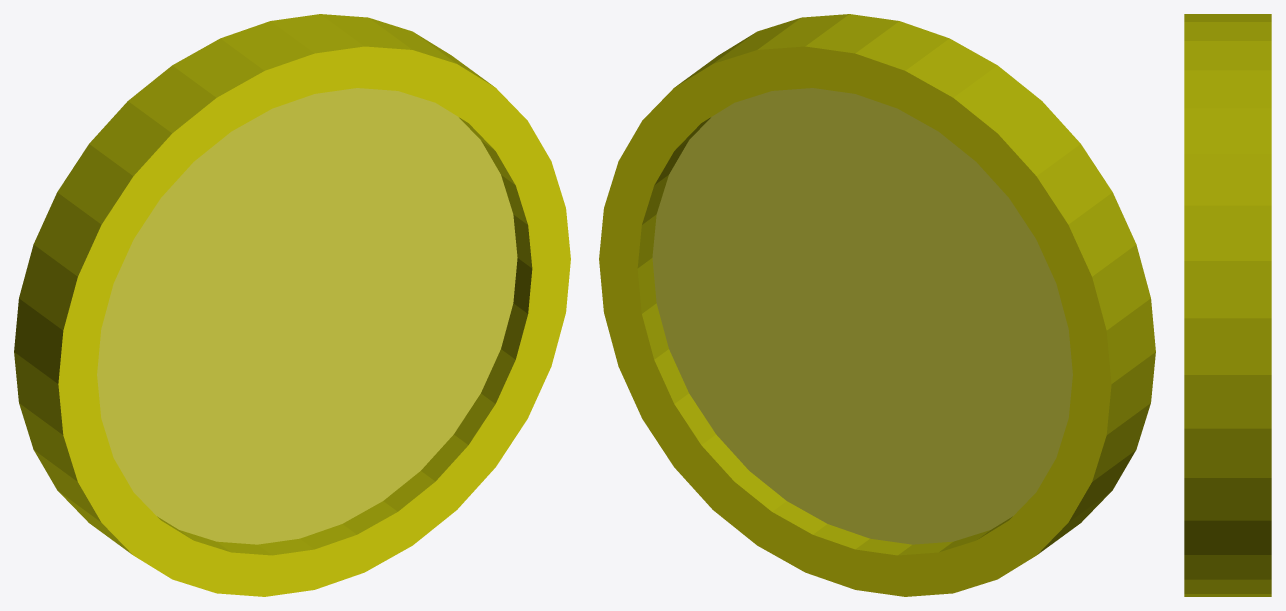
The model's file is coin.fbx.
3 renders of one model, left to right at view 1: azimuth 30°, elevation 25°; view 2: azimuth 150°, elevation 25°; view 3: azimuth 270°, elevation 25°, orthographic.
Parts seen in each view (by area): view 1: Cylinder; view 2: Cylinder; view 3: Cylinder.
Part boxes in pixels (<box>): Cylinder: <box>14,14,570,596</box>; Cylinder: <box>599,14,1155,596</box>; Cylinder: <box>1184,14,1271,596</box>.
Size of the model in its own units: 200 by 200 by 30.
